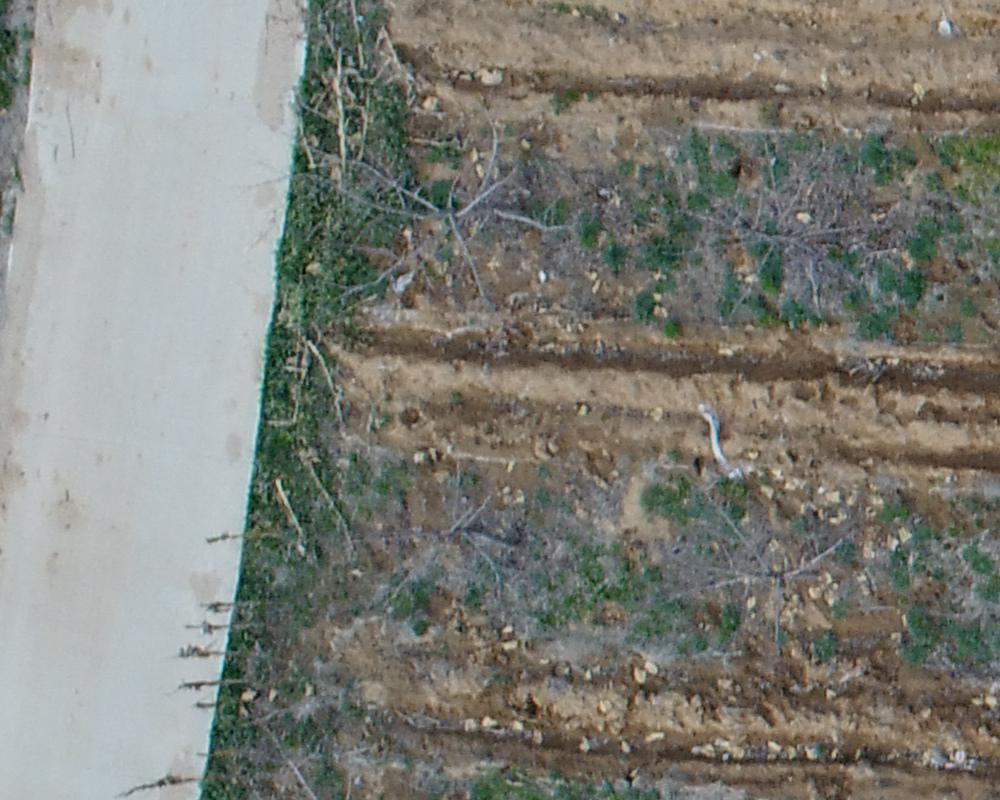apple: (313, 114, 577, 318), (657, 140, 890, 317), (643, 485, 857, 670), (340, 459, 534, 614)
